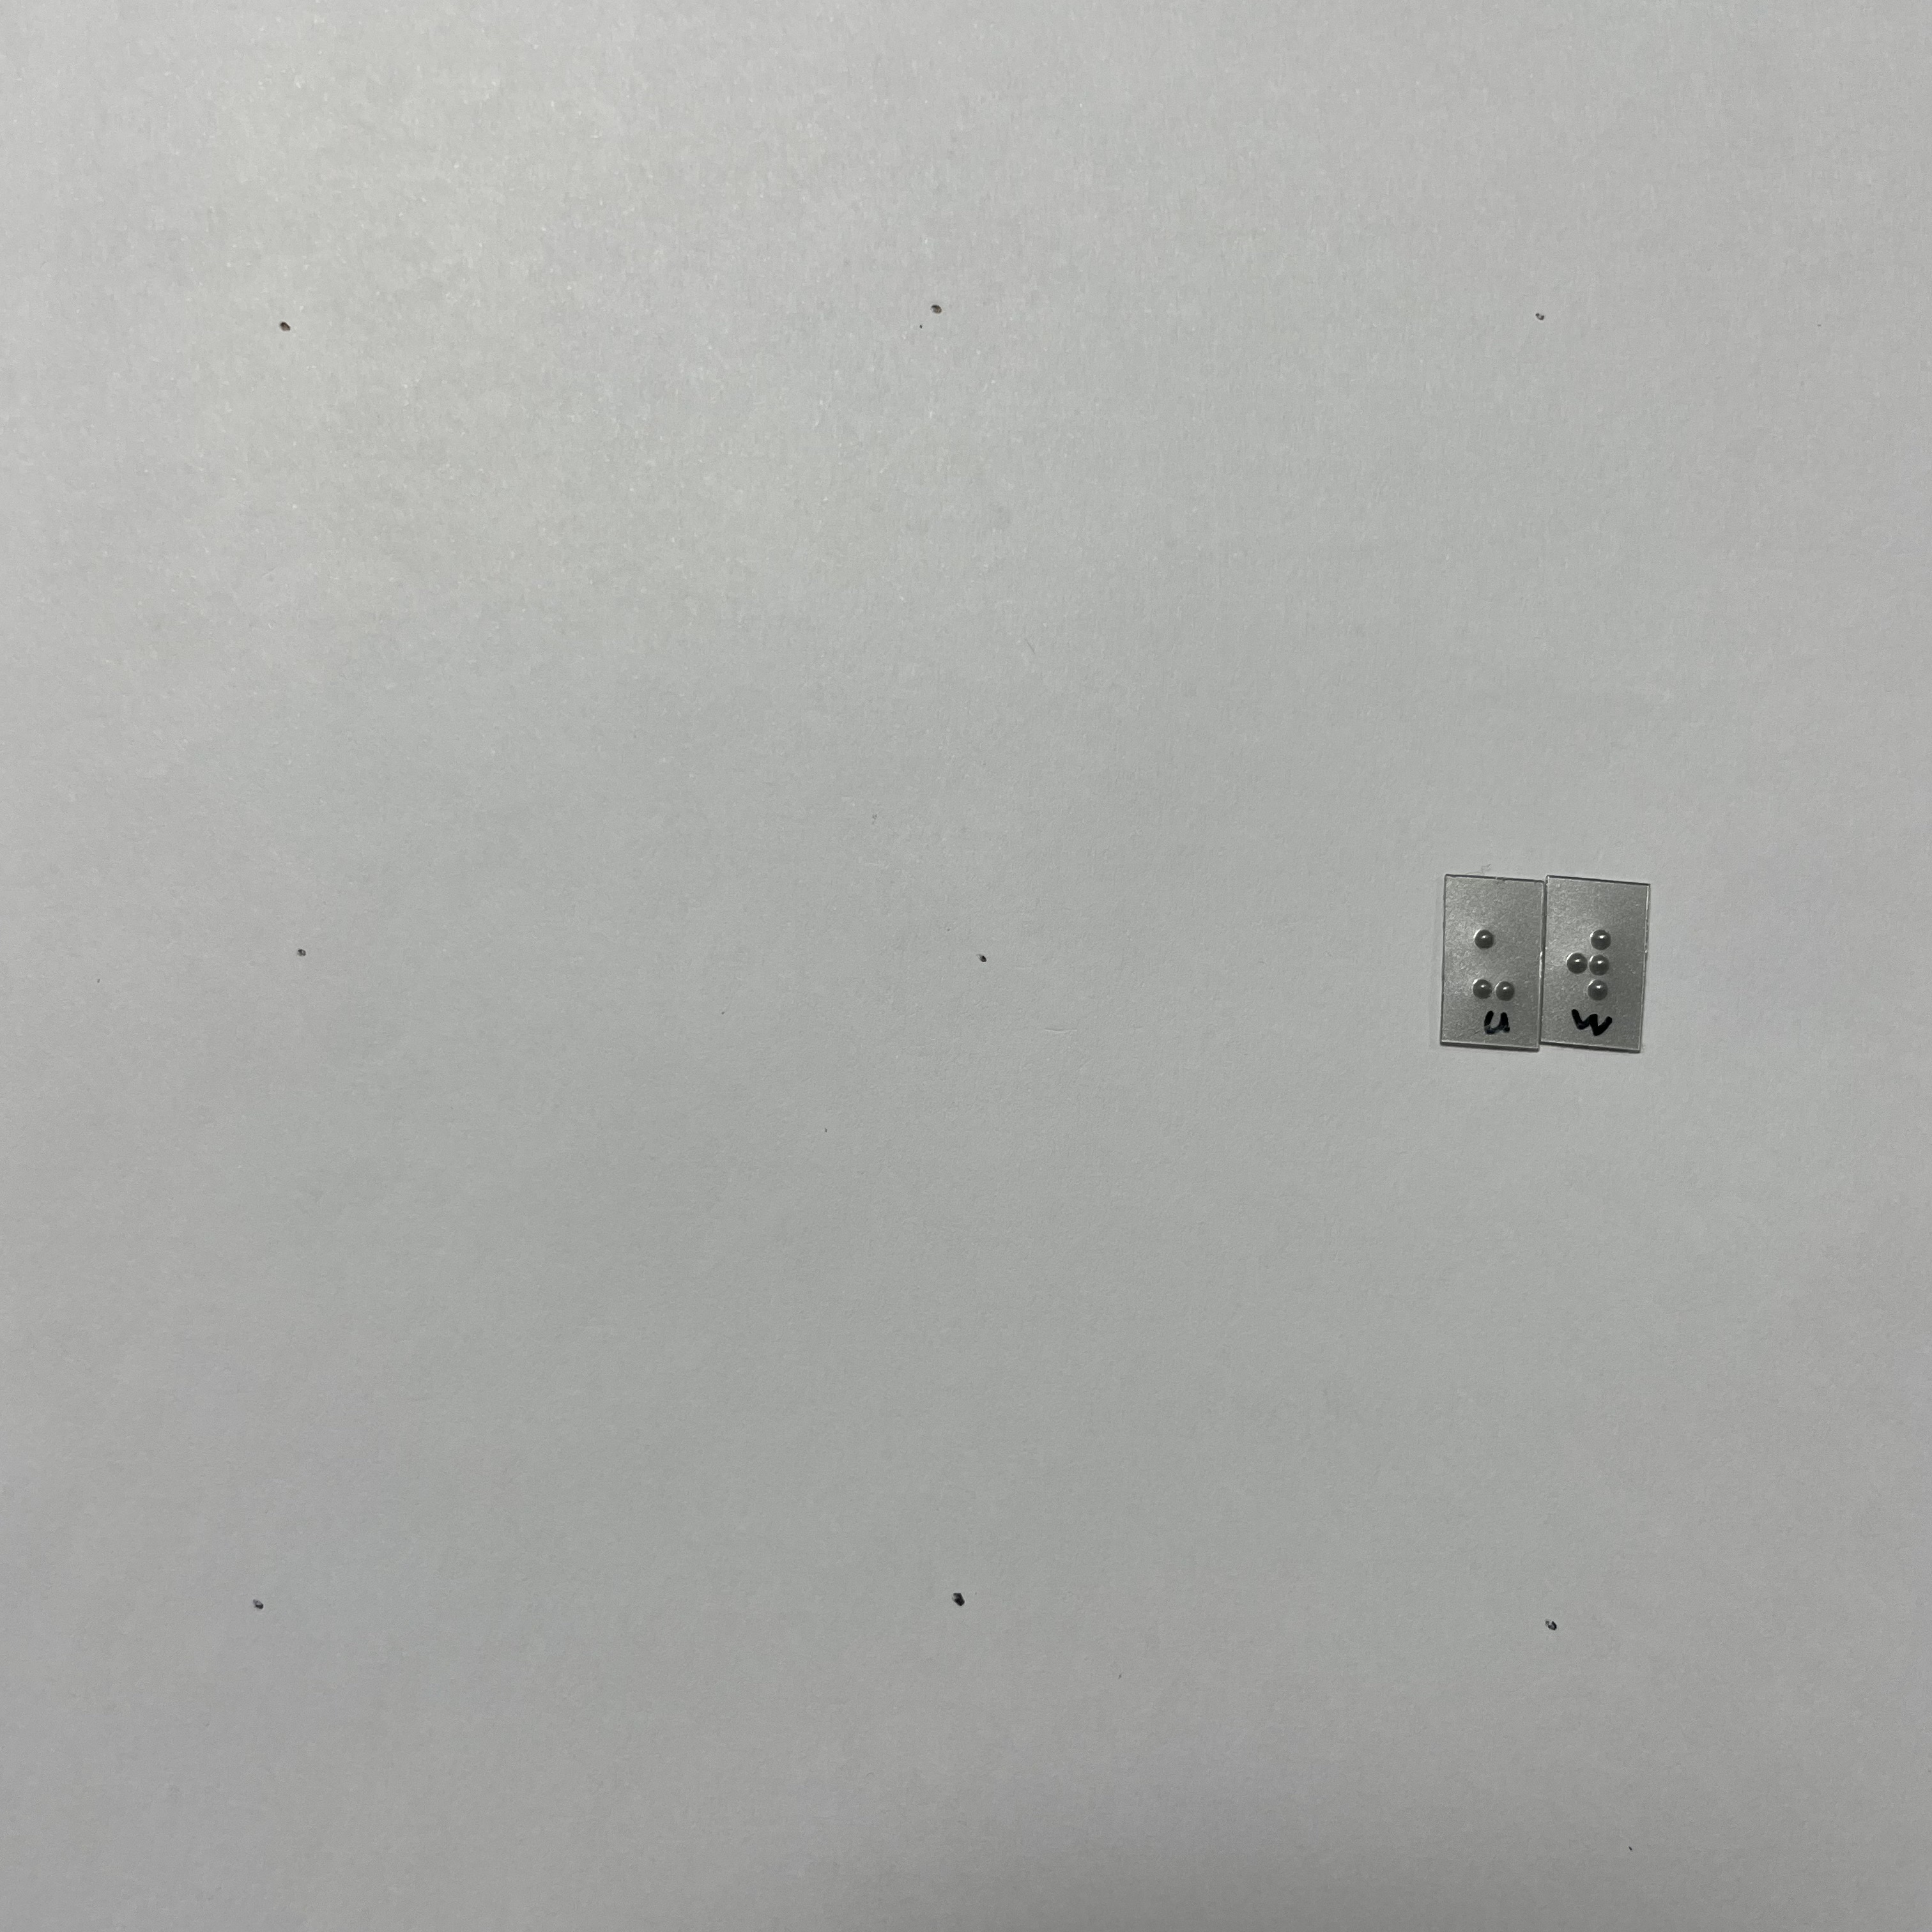u: (1463, 912, 1525, 1009)
w: (1563, 921, 1624, 1011)
